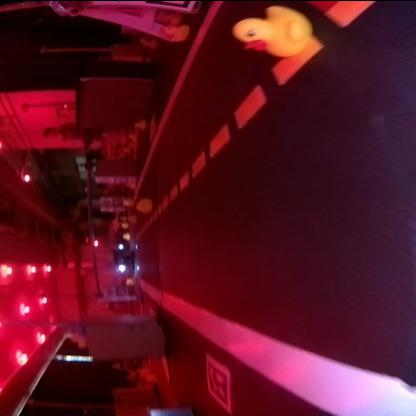Duckie: (232, 5, 308, 55), (163, 22, 190, 41), (136, 196, 152, 212), (132, 118, 146, 128), (122, 232, 130, 240), (124, 277, 132, 283)
QR code: (206, 354, 230, 410)
